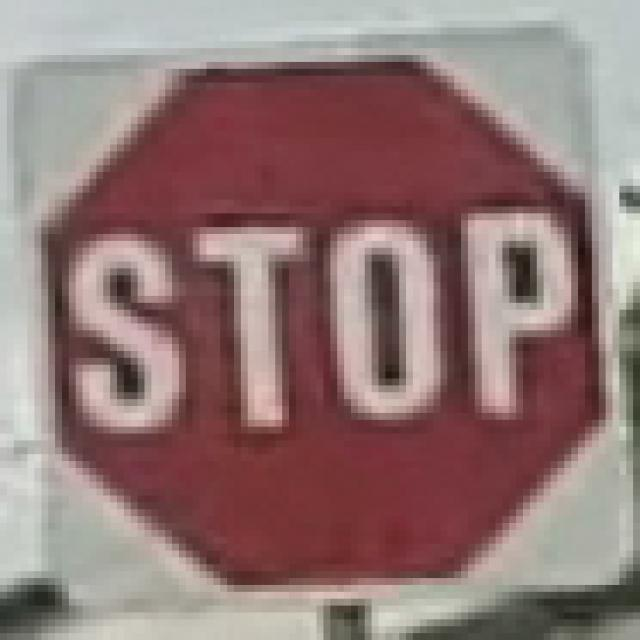mandatorystop_sign: (28, 48, 620, 606)
